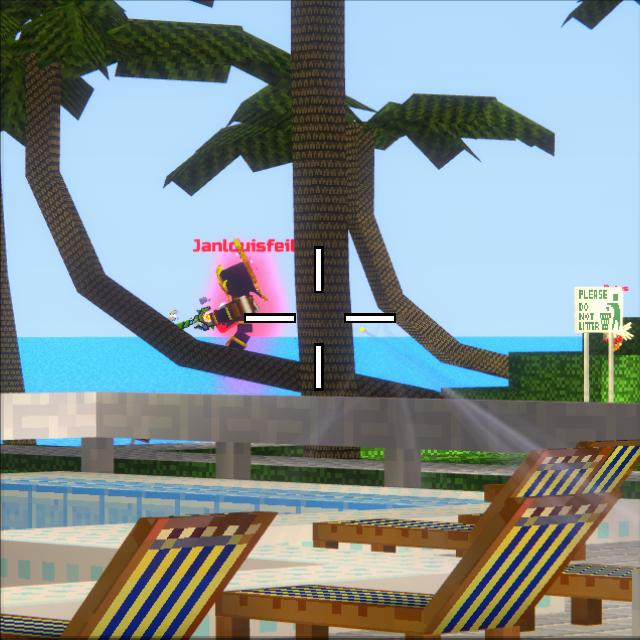Enemy: (202, 262, 265, 345)
